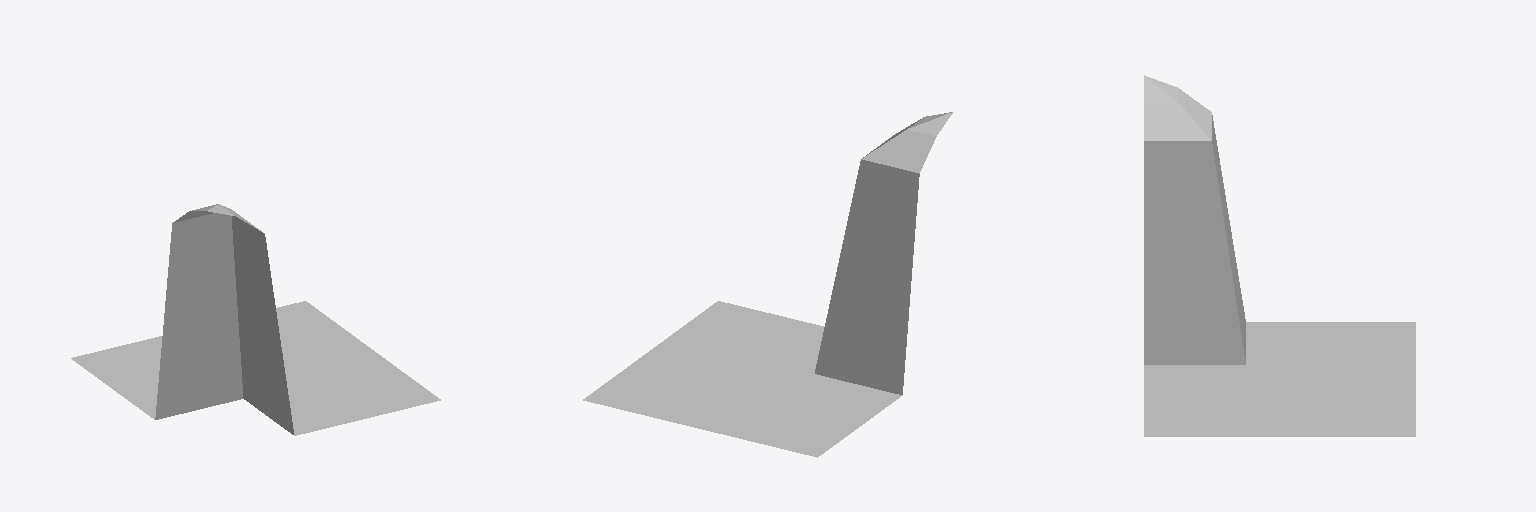
Rendered from Sand4e.obj.
The picture shows the model from 3 angles: view 1: azimuth 30°, elevation 25°; view 2: azimuth 150°, elevation 25°; view 3: azimuth 270°, elevation 25°; orthographic projection.
Visible parts, largest first — view 1: Grid_Grid.023_Grid_Grid.011; view 2: Grid_Grid.023_Grid_Grid.011; view 3: Grid_Grid.023_Grid_Grid.011.
Part boxes in pixels (left/top/right/bottom): Grid_Grid.023_Grid_Grid.011: left=71, top=204, right=440, bottom=435; Grid_Grid.023_Grid_Grid.011: left=583, top=112, right=952, bottom=457; Grid_Grid.023_Grid_Grid.011: left=1144, top=75, right=1415, bottom=436.
Bounding box in the file's own units: 1 × 1 × 1.